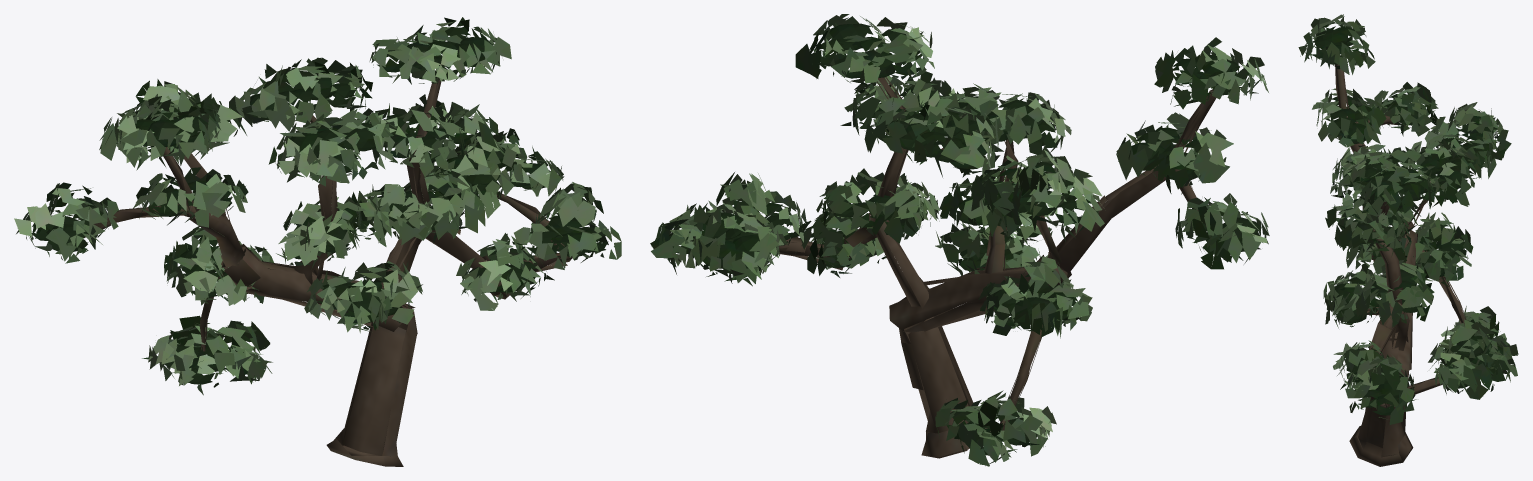
The model's file is pine_a_hd.glb.
3 views of the same model, side by side, from view 1: azimuth 30°, elevation 25°; view 2: azimuth 150°, elevation 25°; view 3: azimuth 270°, elevation 25° (orthographic). The views are drawn at different scales.
Visible parts, largest first — view 1: pine_a; view 2: pine_a; view 3: pine_a.
Boxes of the visible parts, bbox=[...] form: pine_a: bbox=[14, 17, 621, 466]; pine_a: bbox=[650, 14, 1269, 466]; pine_a: bbox=[1298, 14, 1518, 466].
Size of the model in its own units: 4 by 2.93 by 1.68.
1 material, 1 textured.
